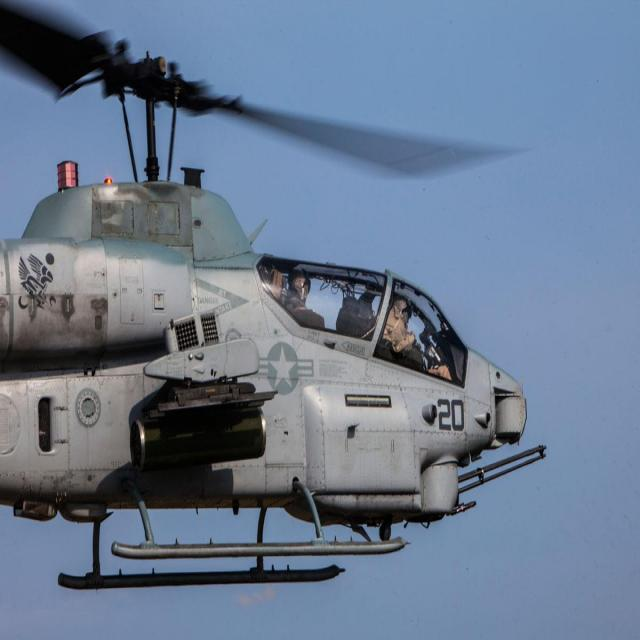MIL_HELO: (0, 0, 571, 600)
